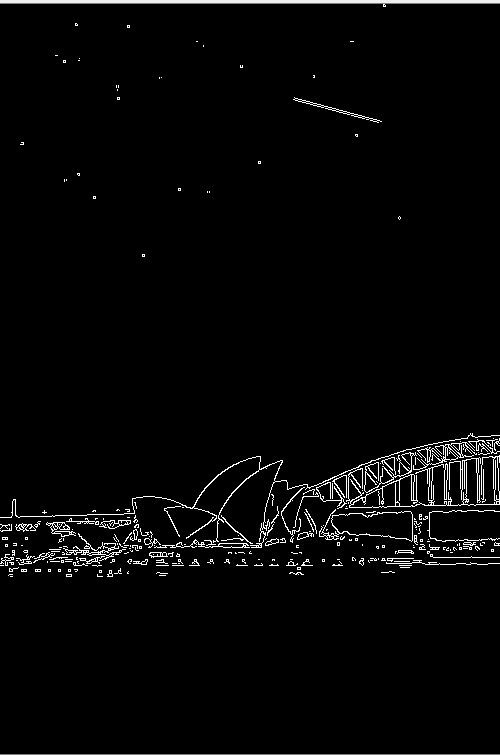opera house: (88, 414, 361, 563)
